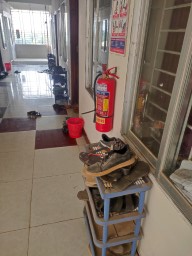fire_extinguisher: (49, 96, 99, 131), (53, 244, 60, 256)
